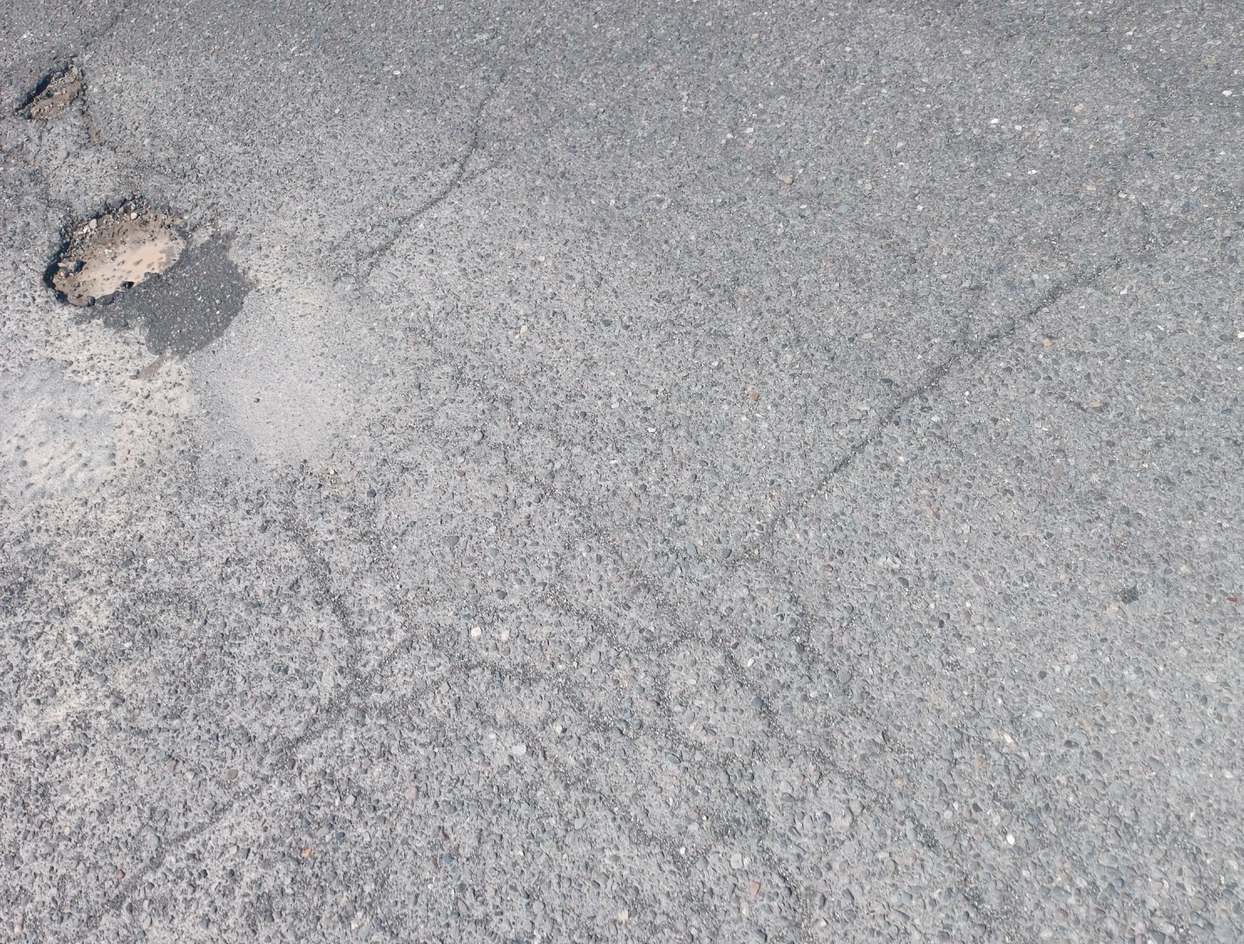BACHE: (44, 199, 193, 313), (21, 65, 82, 118)
GRIETA: (757, 203, 1242, 551), (81, 694, 357, 927), (960, 88, 1181, 343), (369, 73, 510, 271), (81, 107, 182, 182), (1105, 0, 1172, 90), (72, 0, 138, 64), (1185, 92, 1244, 110)
PARCHE: (194, 298, 366, 463), (1, 375, 100, 490)
PIEL DE COCODRILO: (280, 348, 998, 944)
